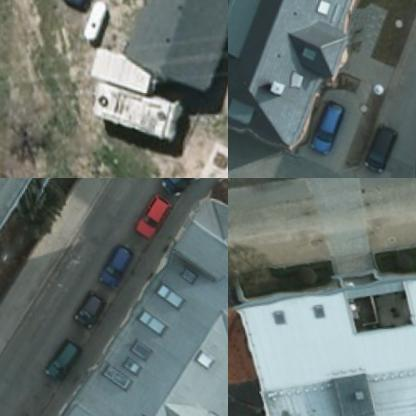camping car: (88, 74, 189, 136), (90, 36, 158, 88)
car: (136, 188, 172, 242), (100, 236, 136, 290), (46, 334, 84, 382), (316, 96, 344, 145), (372, 116, 397, 166), (78, 288, 107, 331), (167, 178, 203, 192)
